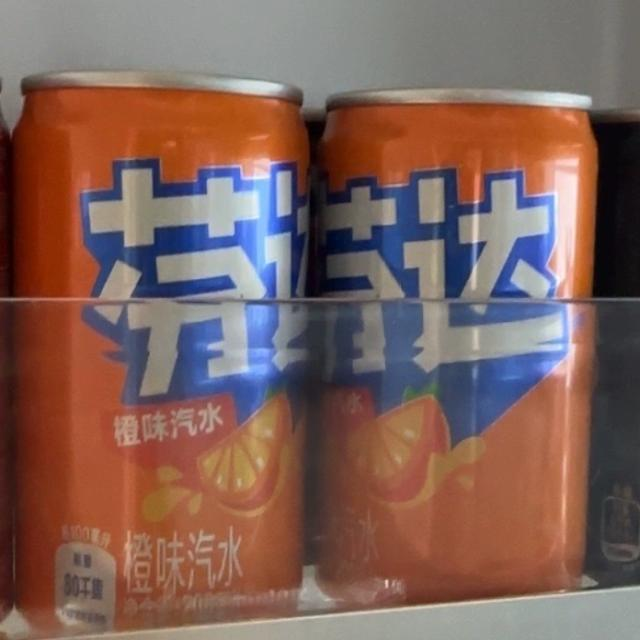orange: (66, 135, 316, 520), (306, 154, 550, 491)
